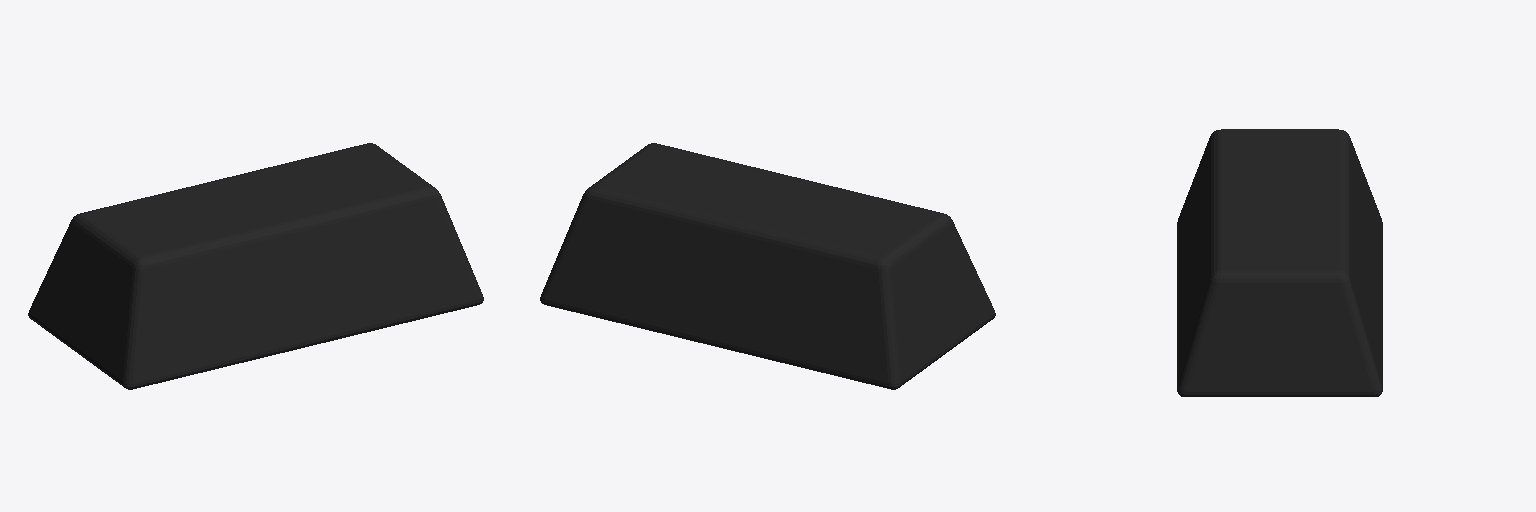
Rendered from Ingot.obj.
3 renders of one model, left to right at view 1: azimuth 30°, elevation 25°; view 2: azimuth 150°, elevation 25°; view 3: azimuth 270°, elevation 25°, orthographic.
Visible parts, largest first — view 1: Ingot_LP_Cube.001; view 2: Ingot_LP_Cube.001; view 3: Ingot_LP_Cube.001.
Part boxes in pixels (x1,y1,x2,y2): Ingot_LP_Cube.001: (28, 143, 483, 389); Ingot_LP_Cube.001: (540, 143, 995, 389); Ingot_LP_Cube.001: (1177, 129, 1382, 396).
Size of the model in its own units: 0.0973 by 0.0287 by 0.0481.